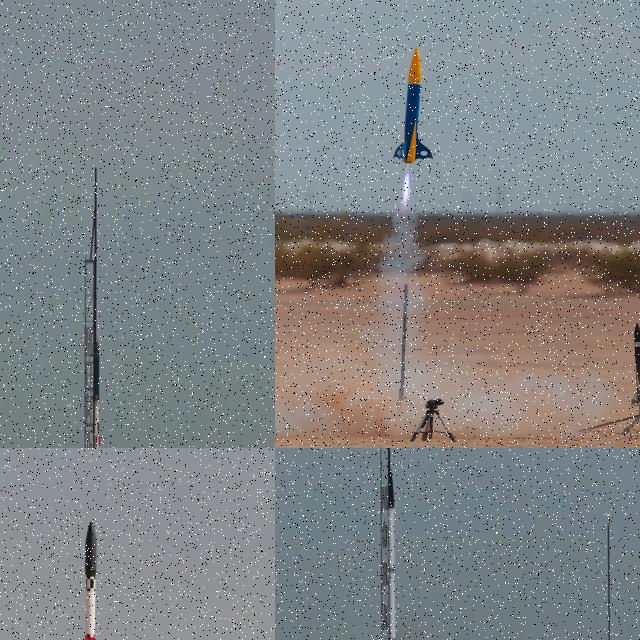Rocket: (68, 520, 111, 640), (392, 46, 434, 165), (380, 468, 404, 640), (88, 340, 106, 448), (629, 322, 640, 406)
